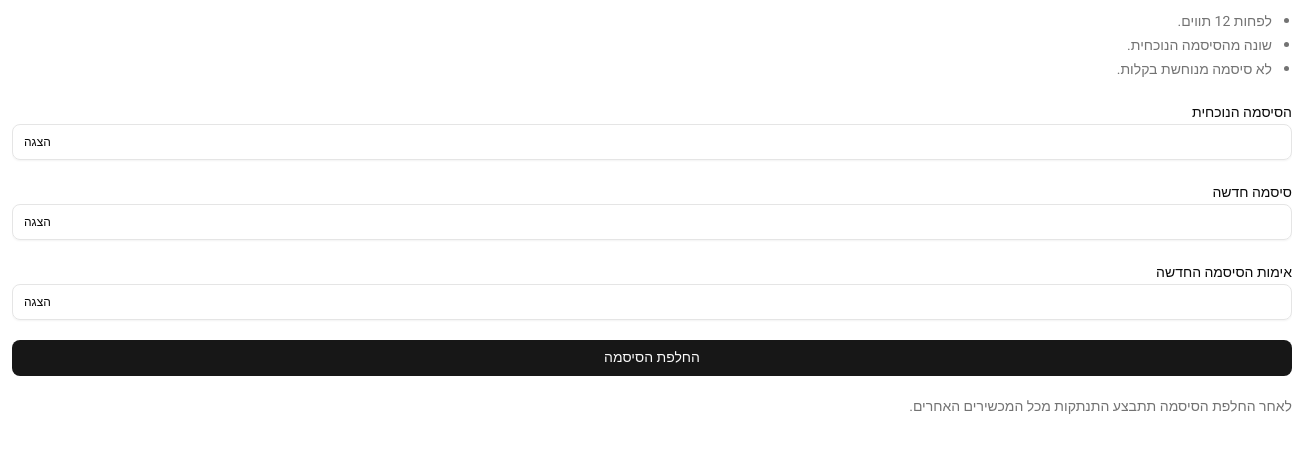
PasswordChangeForm › shows the current-password error on the current field
The image size is (1304, 459).
In the password field labelled "הסיסמה הנוכחית": (652, 142) 12,124 -> 1292,160, type "wrong-current-12"
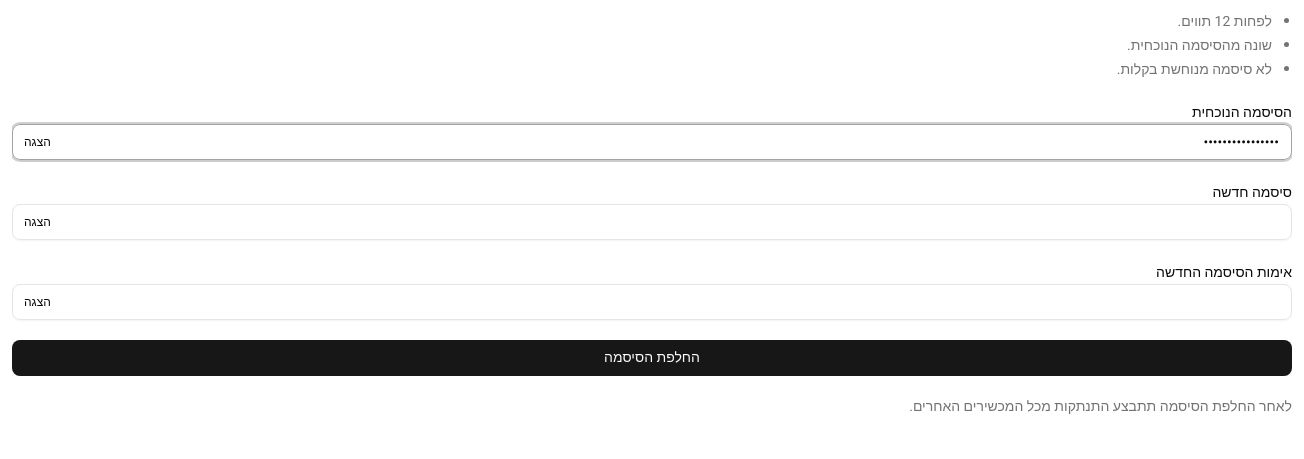
In the password field labelled "סיסמה חדשה": (652, 222) 12,204 -> 1292,240, type "brand-new-password"
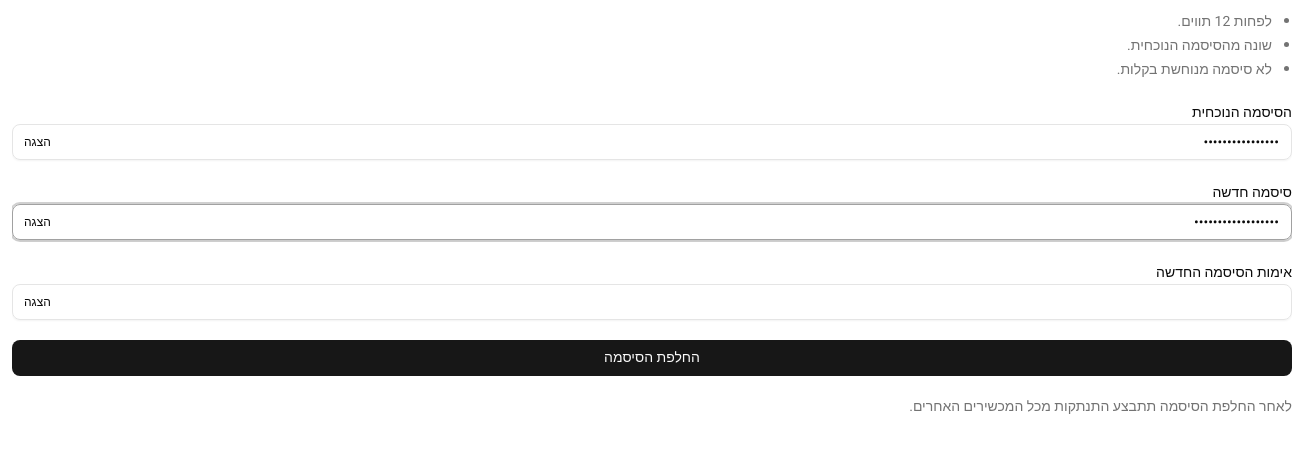
In the password field labelled "אימות הסיסמה החדשה": (652, 302) 12,284 -> 1292,320, type "brand-new-password"
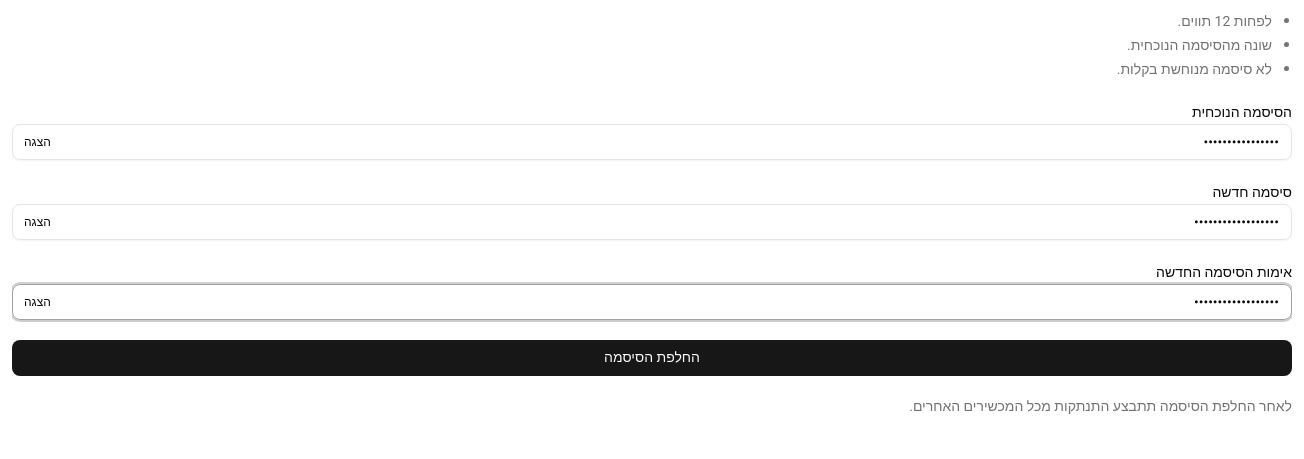
Click the button "החלפת הסיסמה": (652, 358) 12,340 -> 1292,376
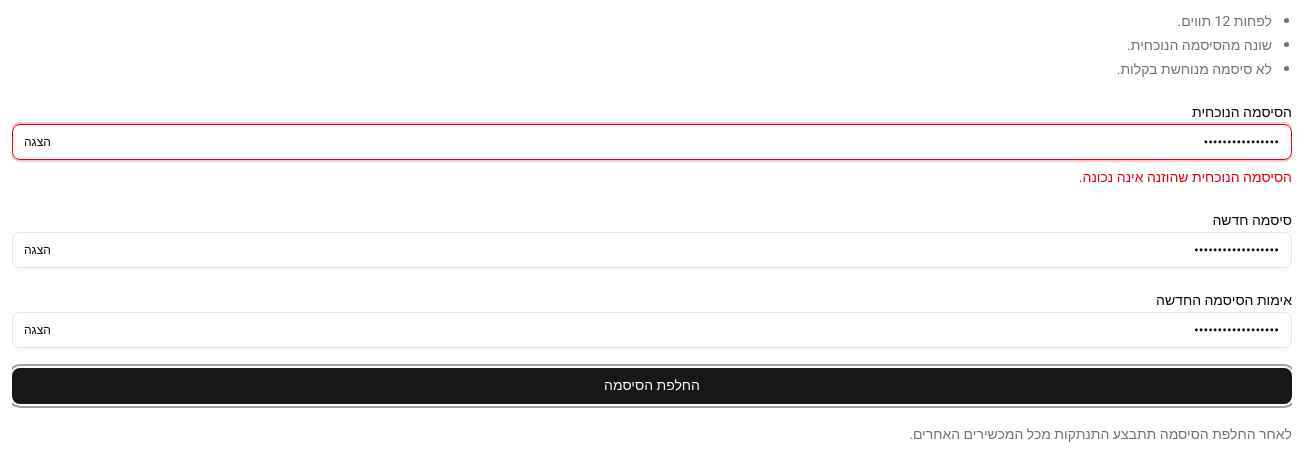
Expected: the text "הסיסמה הנוכחית שהוזנה אינה נכונה." is shown, 1079,167 -> 1292,188
